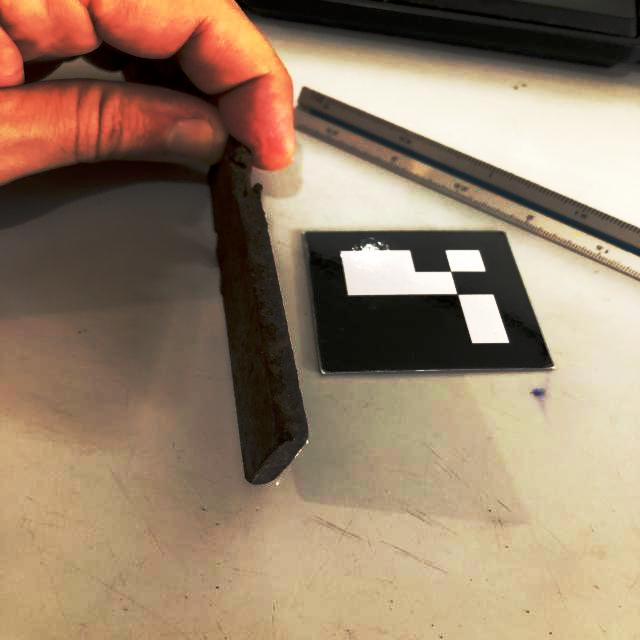Corrosion: (207, 135, 309, 485)
